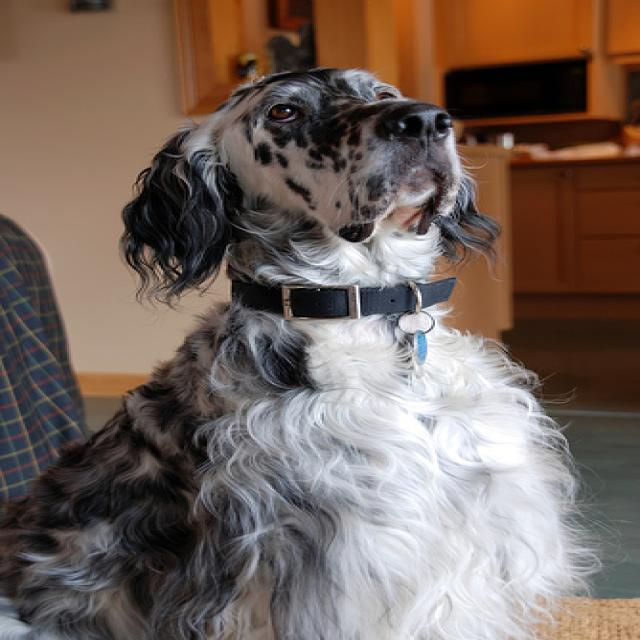dog: (121, 65, 494, 270)
